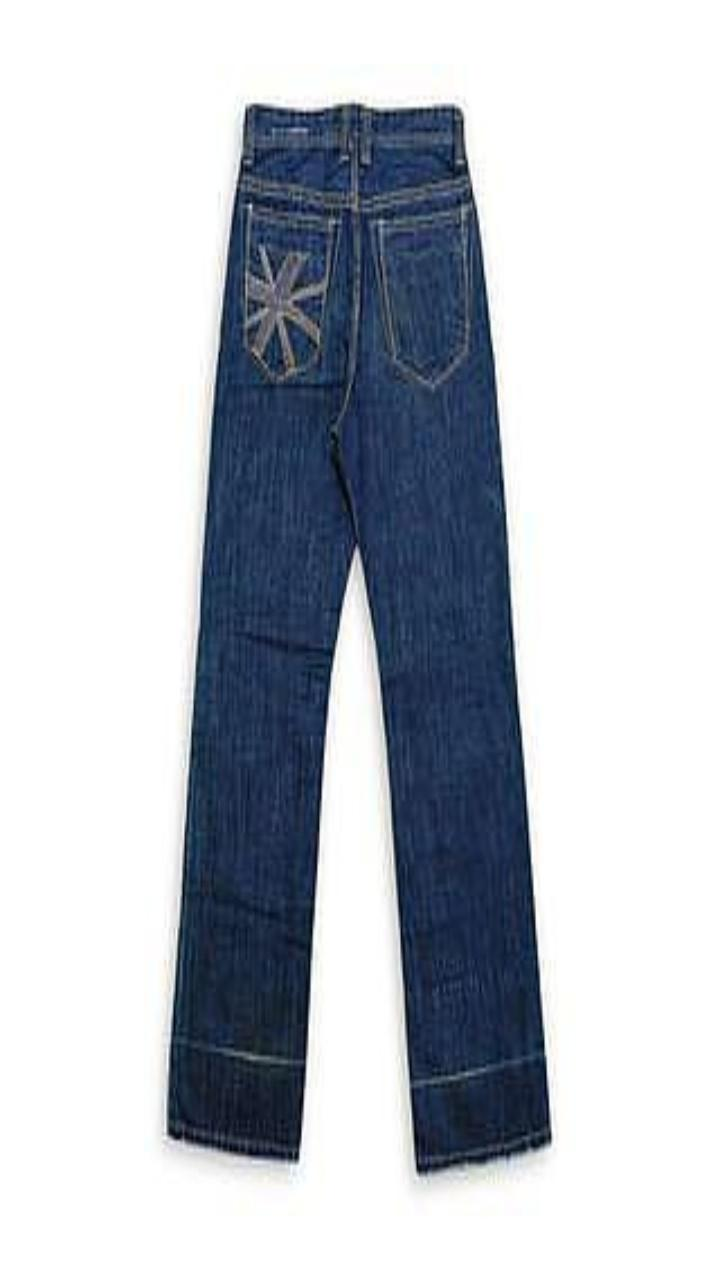Jeans: (169, 105, 549, 1170)
